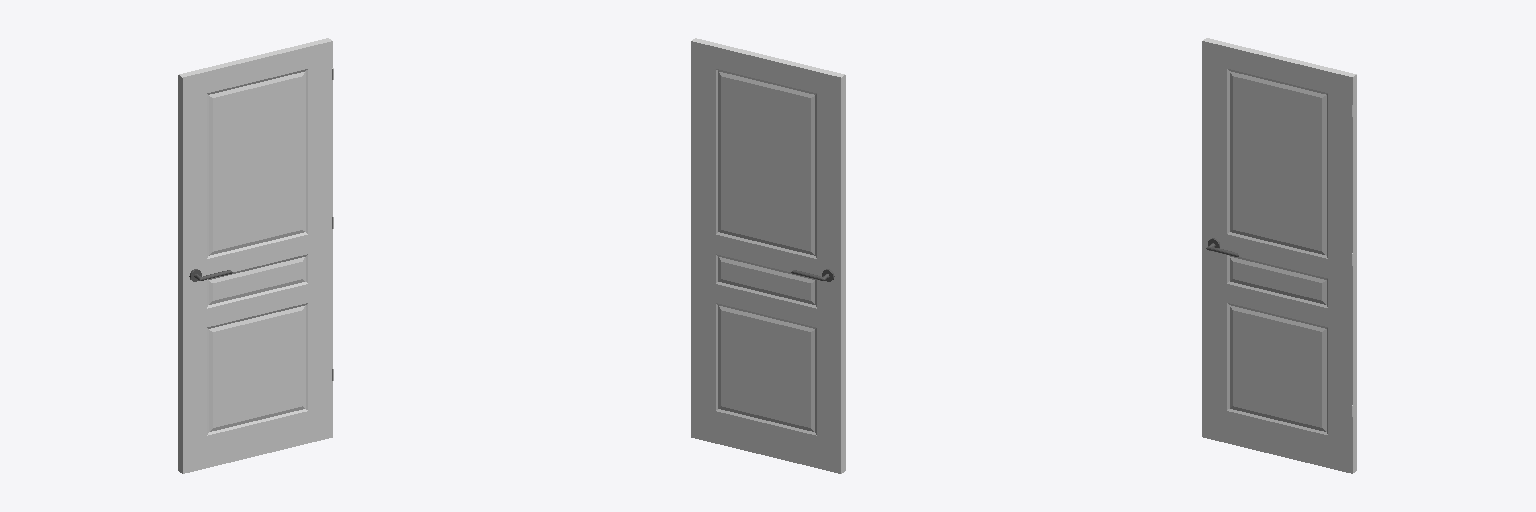
The model's file is door.obj.
3 renders of one model, left to right at view 1: azimuth 30°, elevation 25°; view 2: azimuth 150°, elevation 25°; view 3: azimuth 330°, elevation 25°, orthographic.
Visible parts, largest first — view 1: door.000_Cube.006; view 2: door.000_Cube.006; view 3: door.000_Cube.006.
Boxes of the visible parts, x1,y1,x2,y2 form: door.000_Cube.006: [178, 38, 332, 473]; door.000_Cube.006: [691, 38, 845, 473]; door.000_Cube.006: [1202, 38, 1356, 473].
Bounding box in the file's own units: 80.39 × 202 × 17.5.